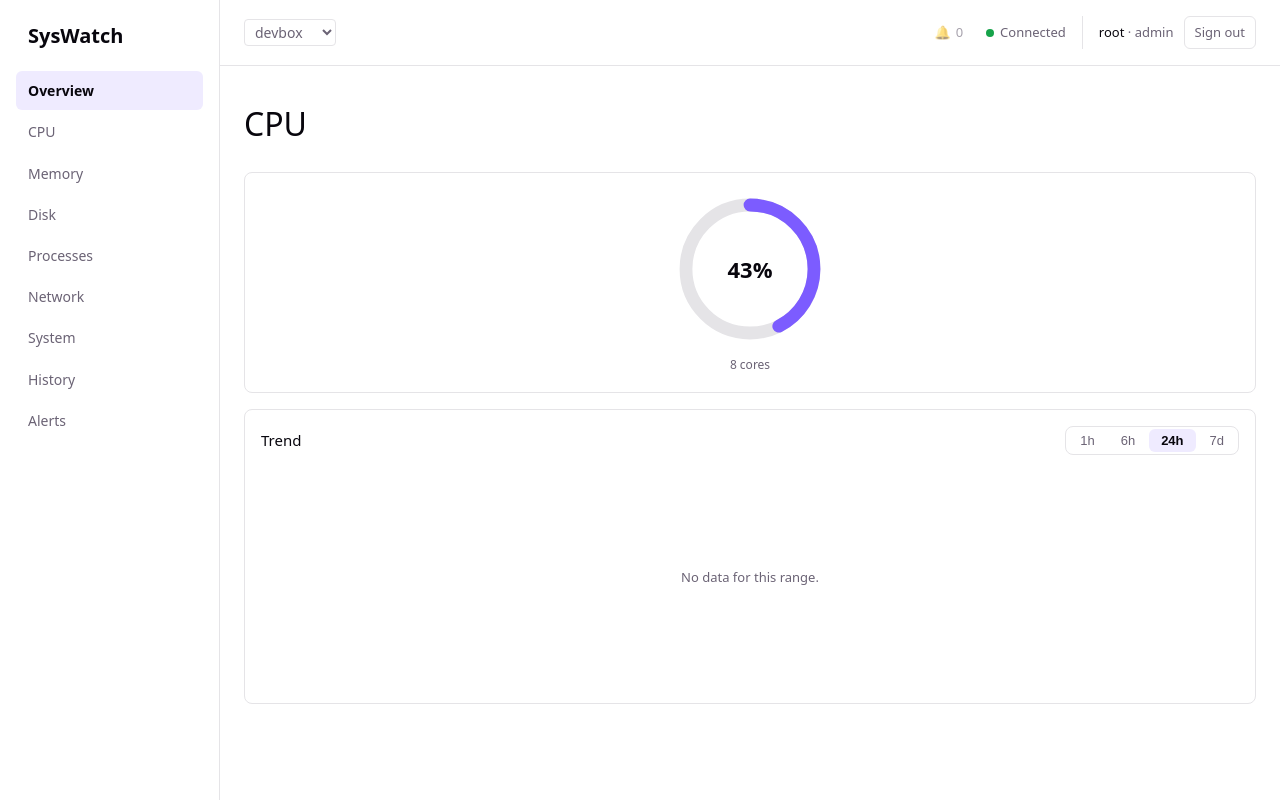
Scenario: switching host › does not leave the previous machine on screen
The width and height of the screenshot is (1280, 800).
Expected: the text "43%" is shown, [728,258,772,281]
Select "buildbox" in the dropdown named "host" at (290,33), box [244,19,336,46]
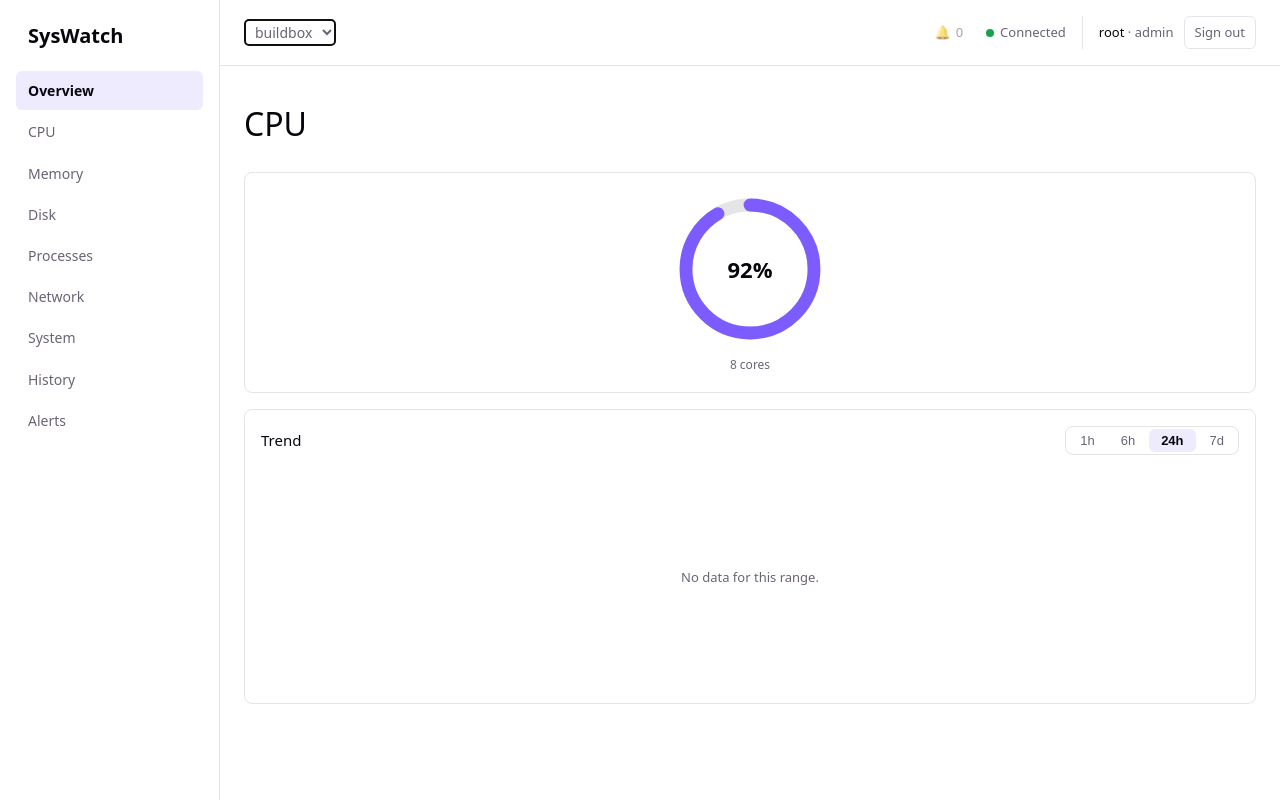
Result: the text "43%" is gone
Result: the text "92%" is shown at [728,258,772,281]
